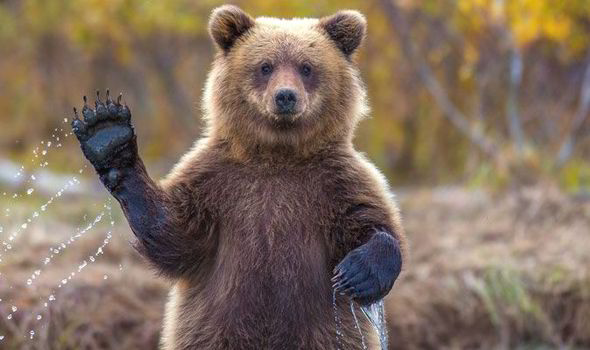bear: (202, 1, 371, 132)
